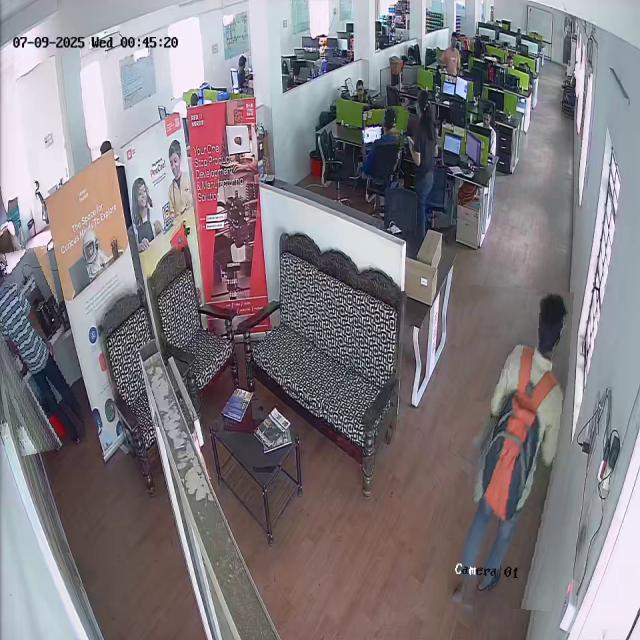person: (451, 287, 569, 610), (0, 247, 78, 454), (405, 90, 439, 234), (359, 105, 407, 180)
